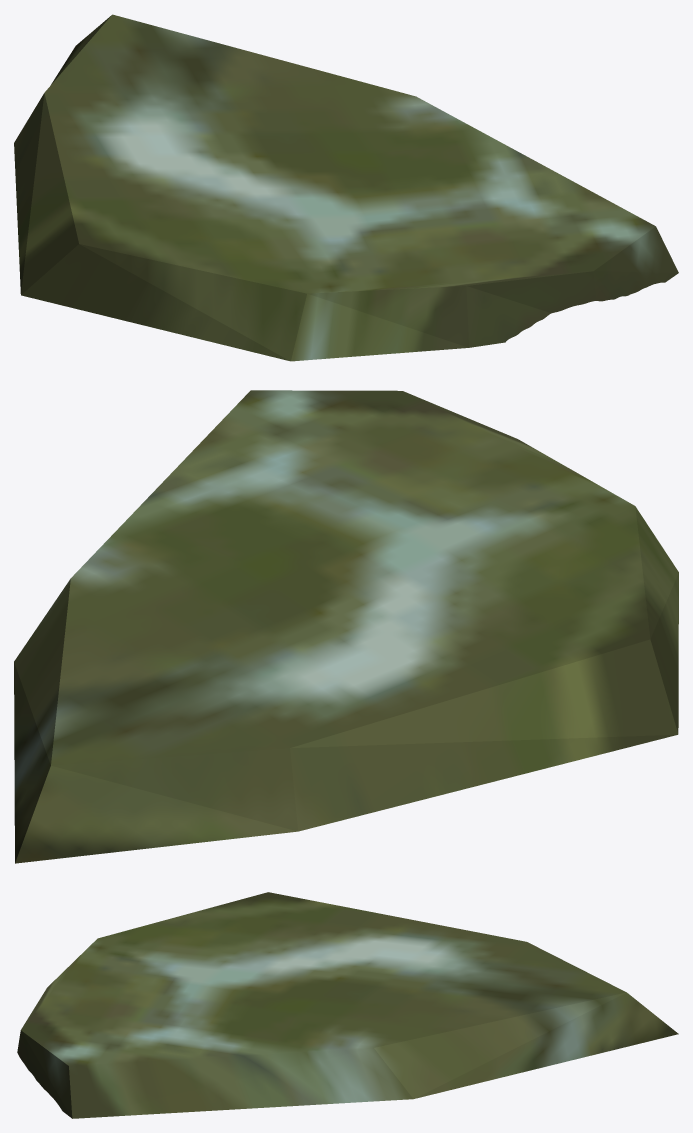
Rendered from paver_snow_08.fbx.
3 views of the same model, one above another, from view 1: azimuth 30°, elevation 25°; view 2: azimuth 150°, elevation 25°; view 3: azimuth 270°, elevation 25° (orthographic). The views are drawn at different scales.
Visible parts, largest first — view 1: obj0.098; view 2: obj0.098; view 3: obj0.098.
Part boxes in pixels (x1,y1,x2,y2): obj0.098: [14, 14, 678, 361]; obj0.098: [14, 390, 678, 863]; obj0.098: [17, 892, 678, 1118].
Bounding box in the file's own units: 1.01 × 0.1016 × 1.42.
